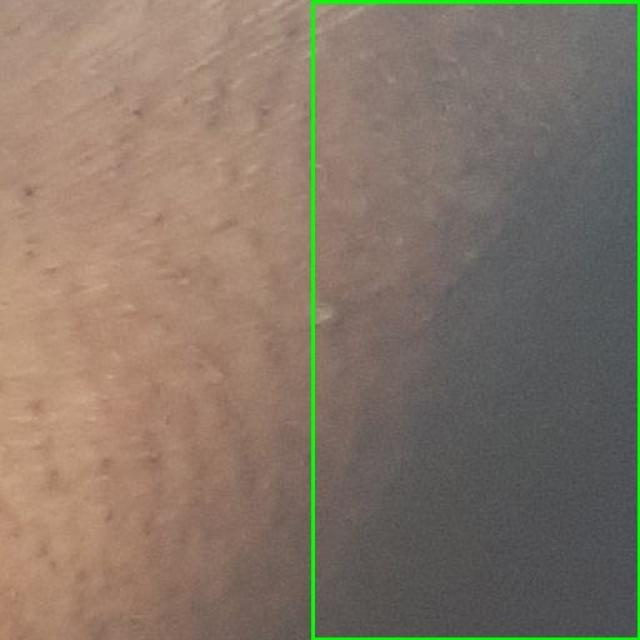Contact Dermatitis: (312, 1, 639, 639)
